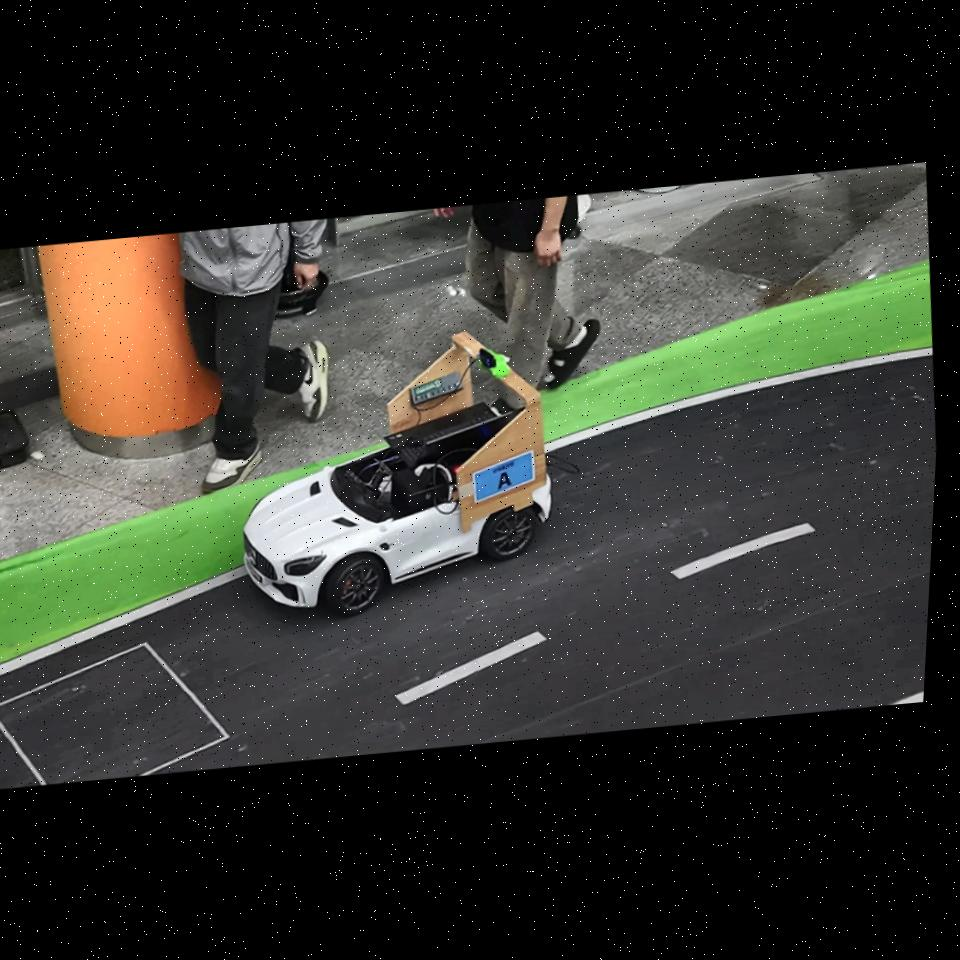broken_line: (395, 631, 547, 705), (671, 523, 816, 579)
